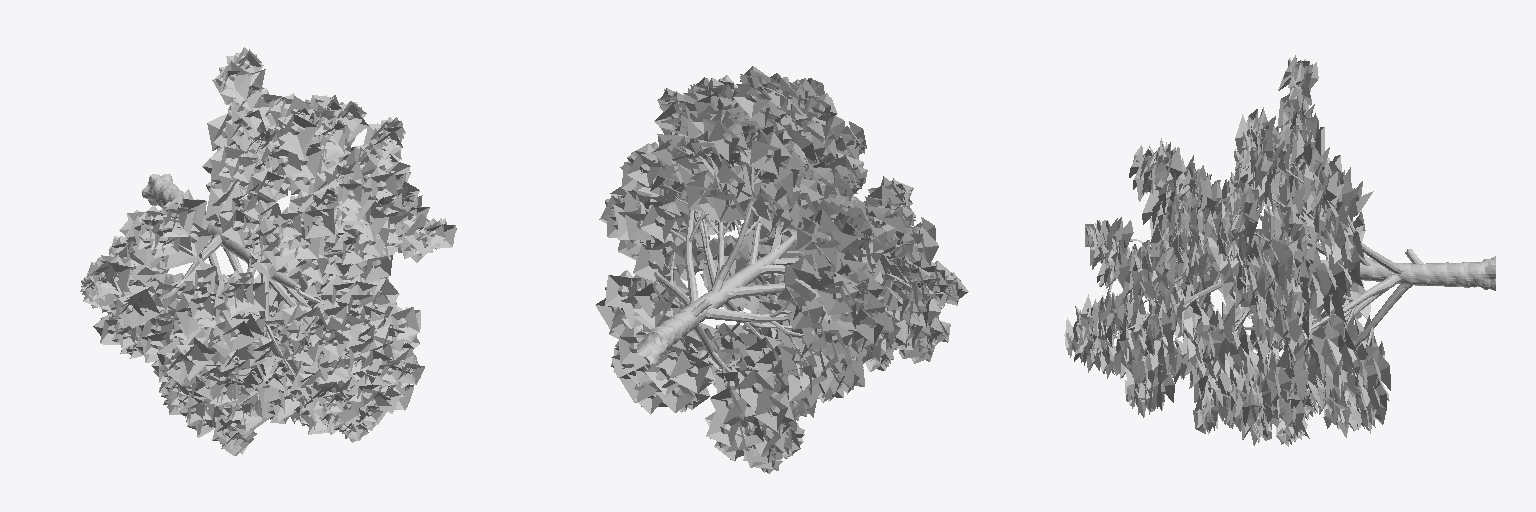
The model's file is tree.obj.
3 views of the same model, side by side, from view 1: azimuth 30°, elevation 25°; view 2: azimuth 150°, elevation 25°; view 3: azimuth 270°, elevation 25° (orthographic).
Parts seen in each view (by area): view 1: tree; view 2: tree; view 3: tree.
Part boxes in pixels (bbox=[...]): tree: bbox=[80, 47, 456, 455]; tree: bbox=[595, 66, 968, 473]; tree: bbox=[1064, 55, 1495, 446].
Bounding box in the file's own units: 46.1 × 51.5 × 51.